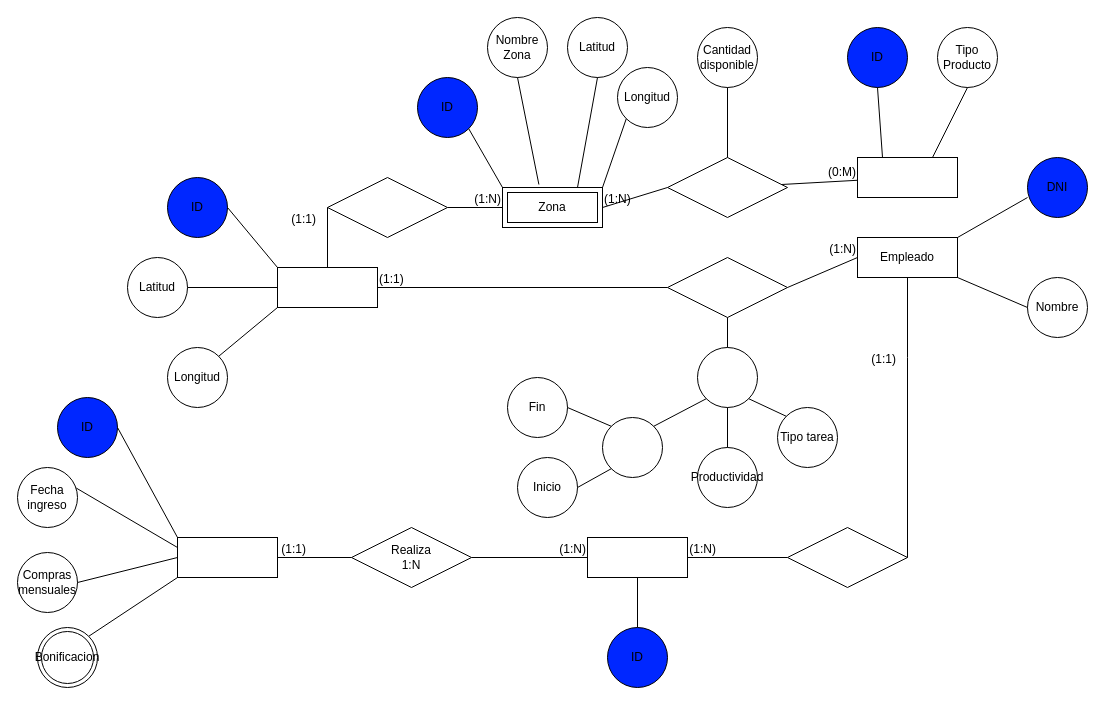
The diagram is 1105 pixels wide and 705 high, and some of its shapes have lost their labels. The shapes that lost their labels are listed below. From the top down, each one's centre as x and y in pixels, then its label:
point (727, 187): Contiene N:M
point (907, 177): Producto
point (387, 207): Pertenece 1:N
point (327, 287): Vivero
point (727, 287): Asignado 1:M
point (727, 377): Puesto
point (632, 447): Fecha
point (227, 557): Cliente
point (637, 557): Pedido
point (847, 557): Gestiona 1:N
